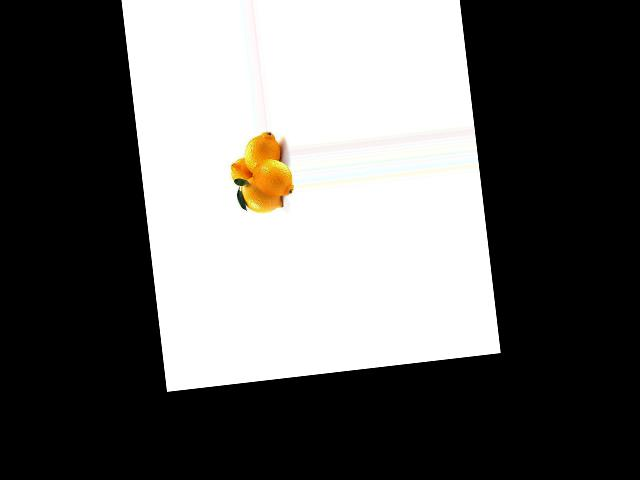lemon: (241, 129, 278, 175)
